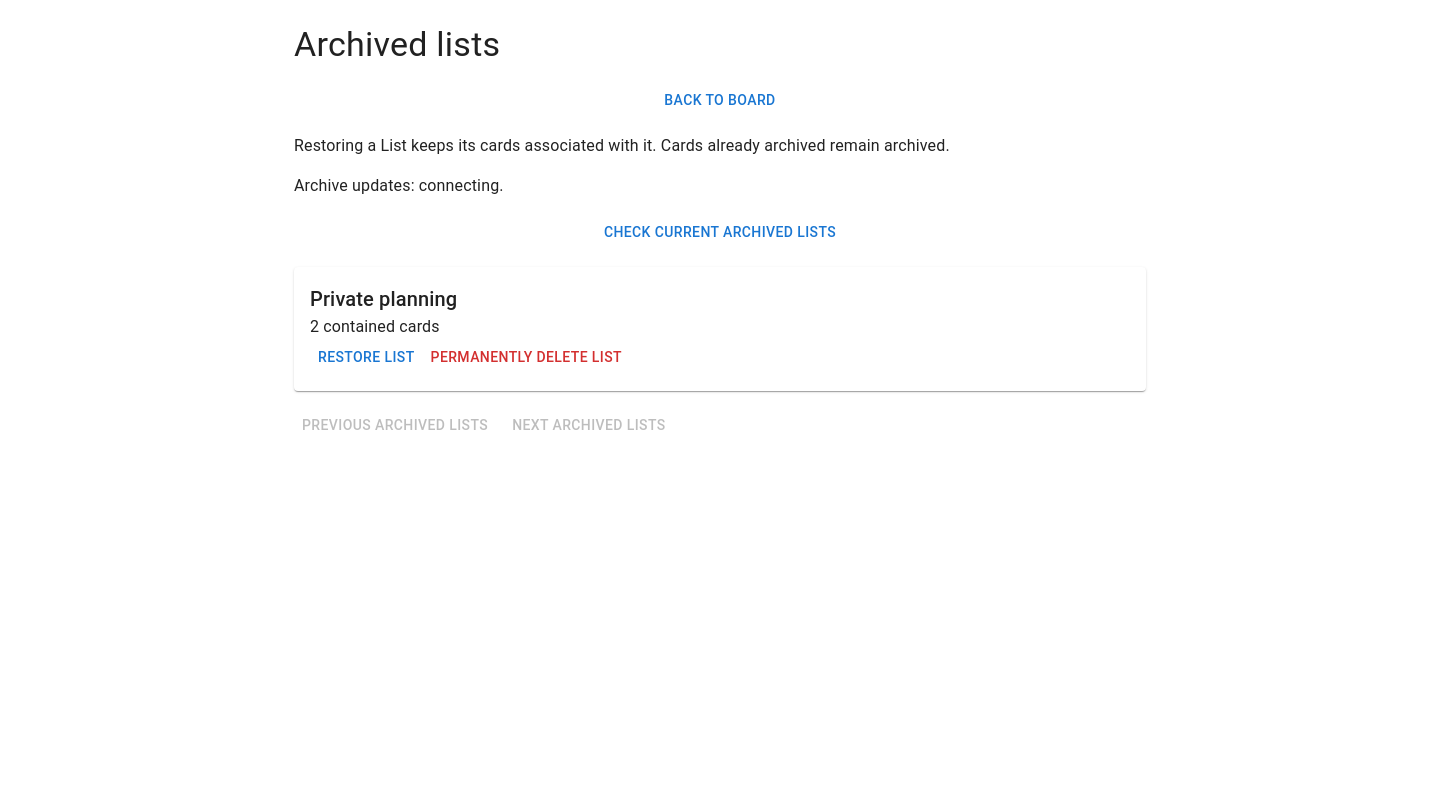
Test: reports list deletion conflict without treating it as success
The width and height of the screenshot is (1440, 810).
Click the button with aria-label "Permanently delete Private planning list". click: (526, 357)
box: [422,339,630,376]
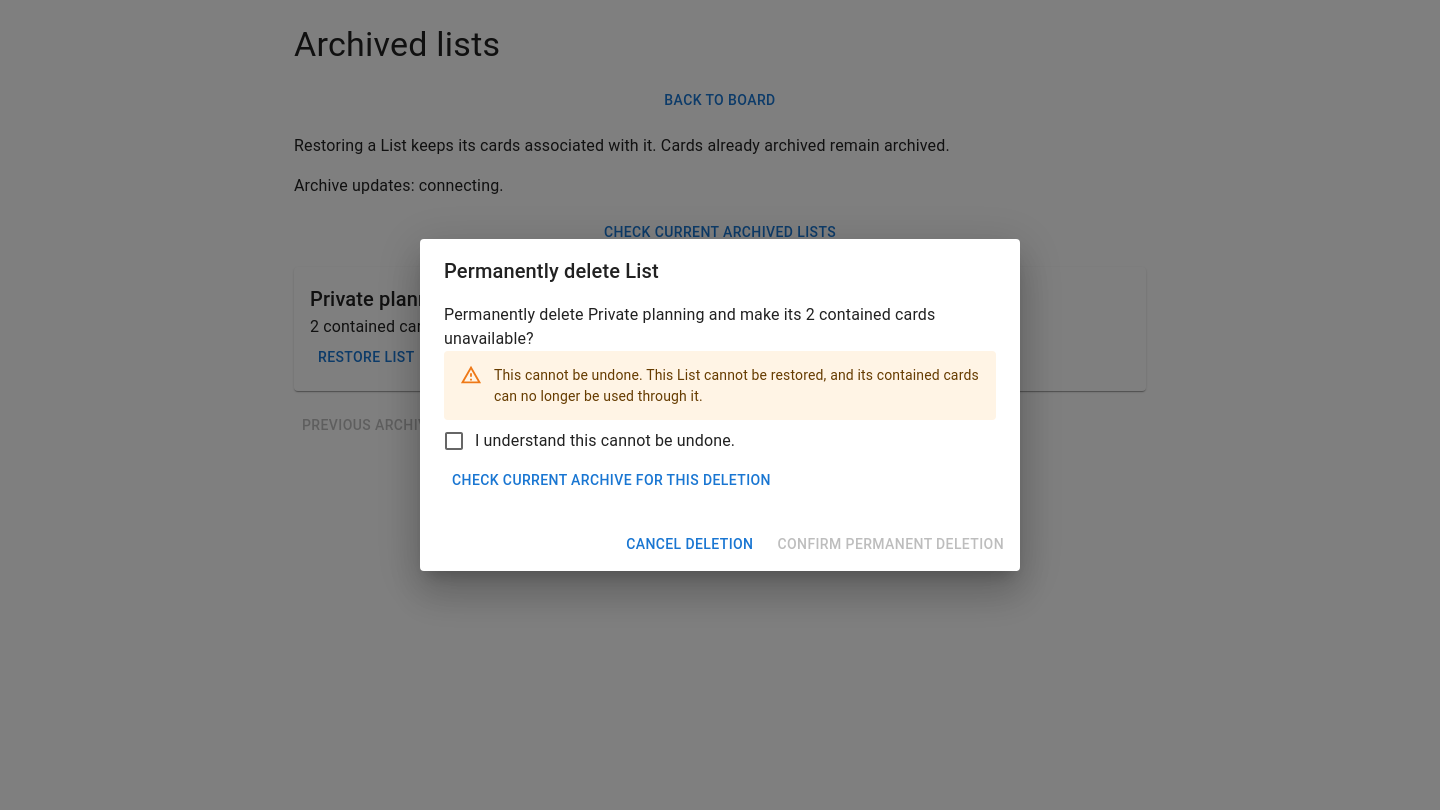
Click the checkbox labelled "I understand this cannot be undone.". click: (589, 440)
box: [442,428,735,452]
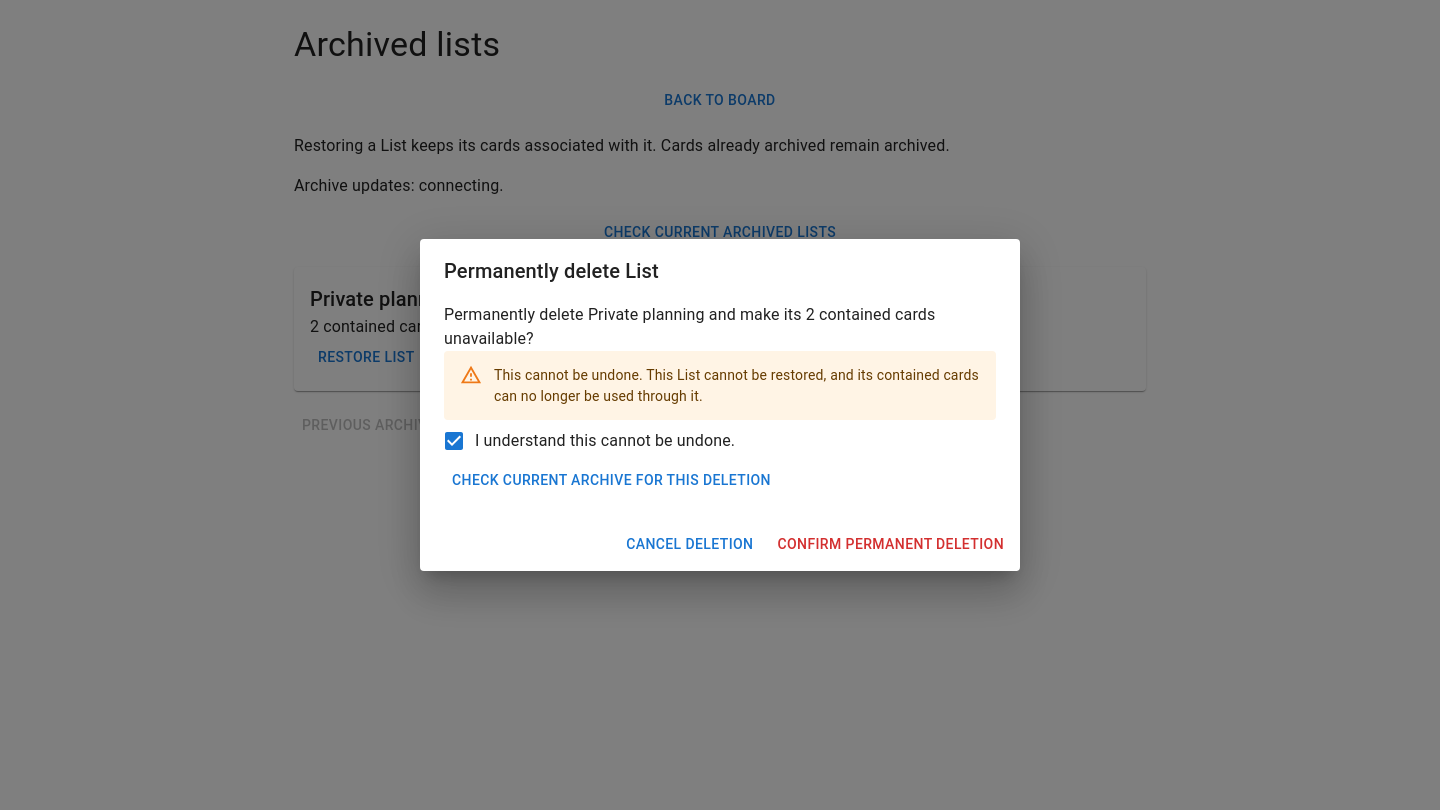
Click the button "Confirm permanent deletion". click: (891, 544)
box: [769,526,1012,562]
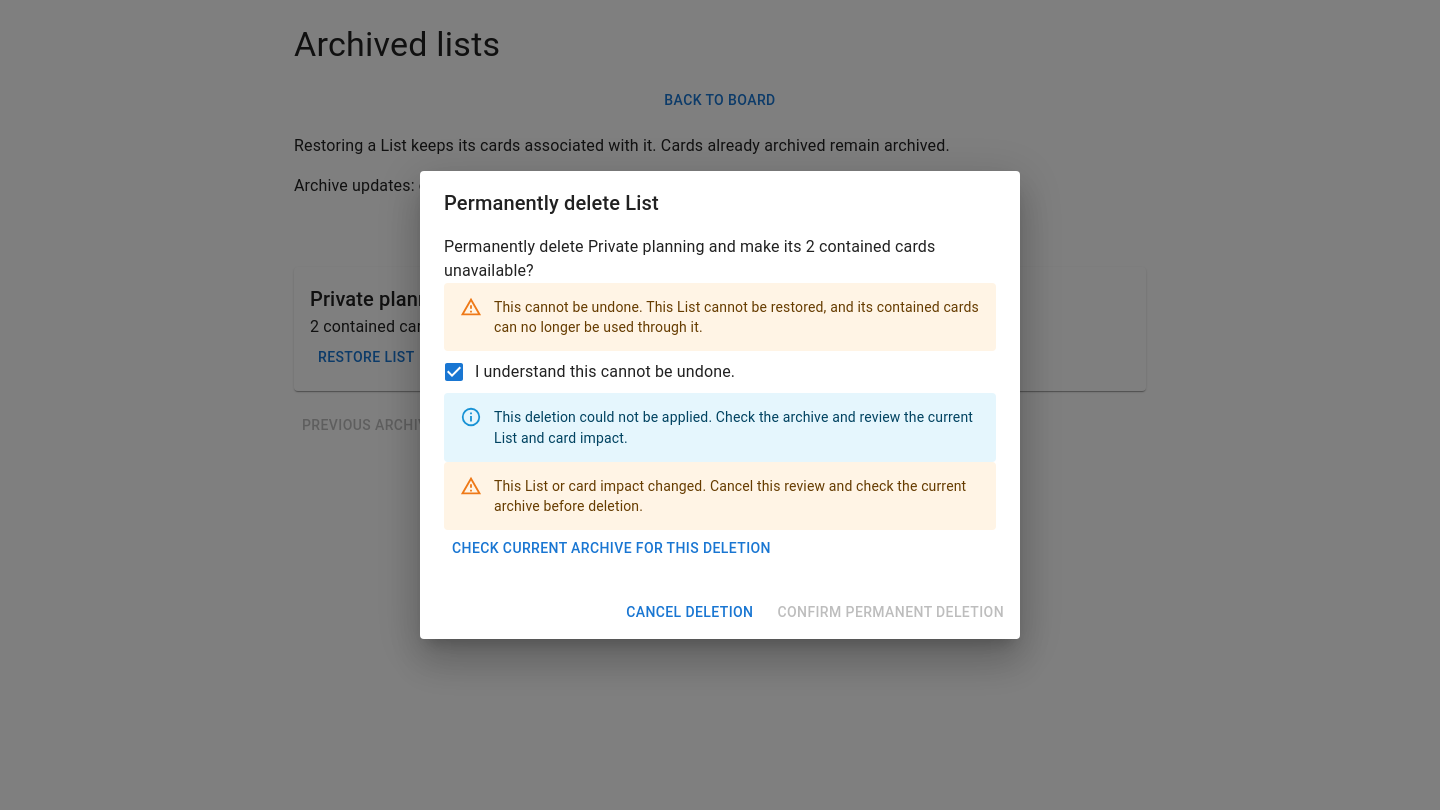
Expected: the text "This deletion could not be applied. Check the archive and review the current List and card impact." is shown, [494,410,973,446]
